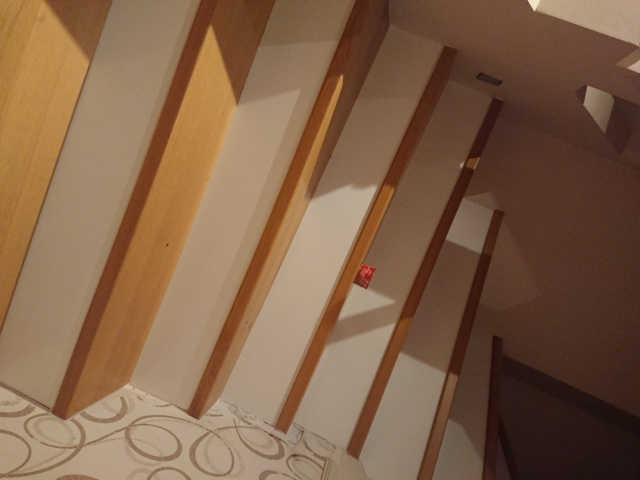Podravka Luncheon Meat 150g: (351, 260, 377, 291)
